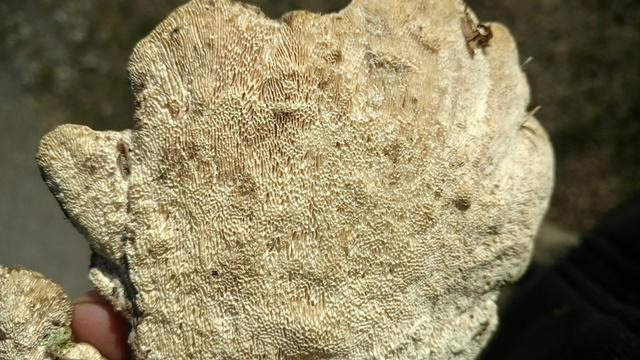poisonous_mushroom: (33, 0, 557, 358)
